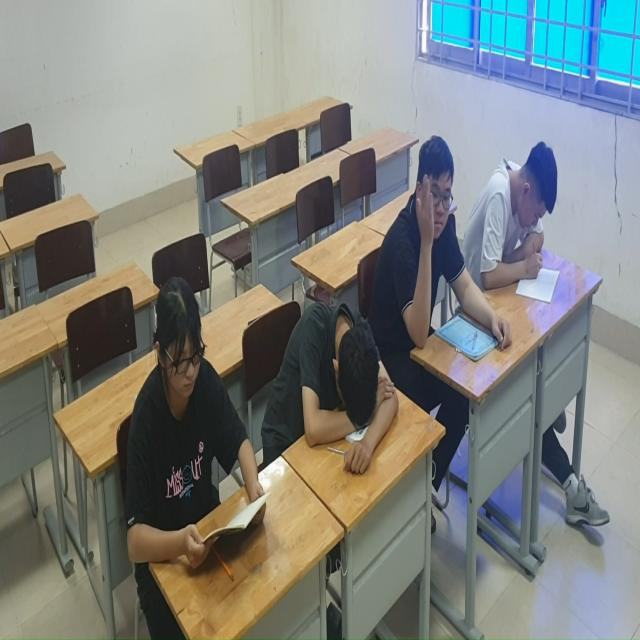raise_hand: (388, 132, 482, 358)
read: (121, 271, 273, 565), (484, 130, 572, 315)
sleep: (277, 293, 403, 490)
